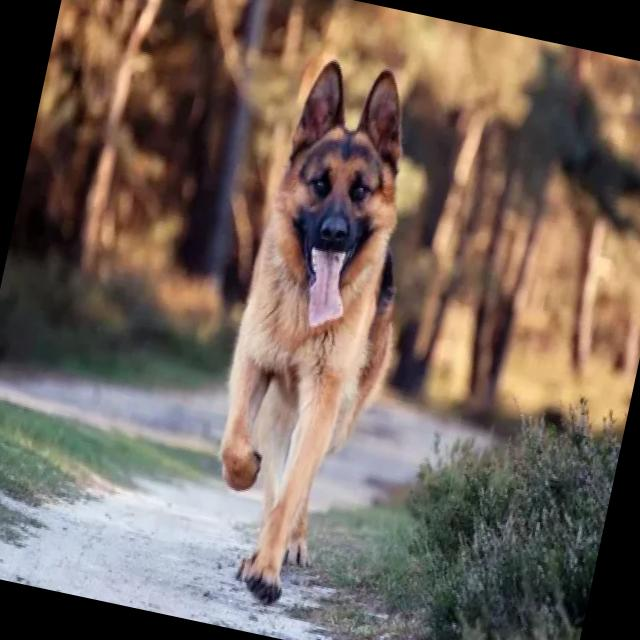Dog: (175, 46, 444, 624)
